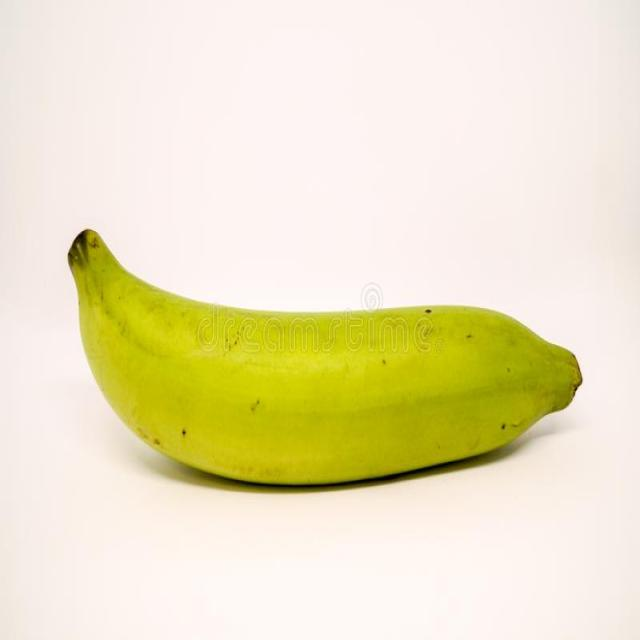non_orange: (65, 222, 587, 489)
